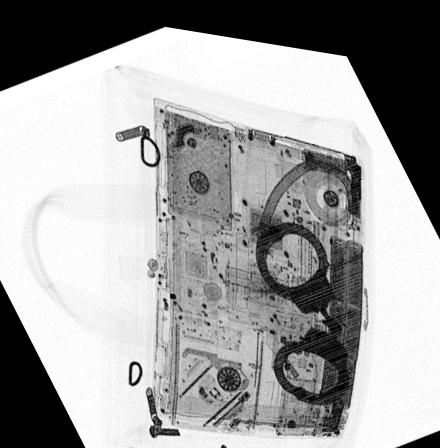HandCuffs: (253, 208, 349, 394)
